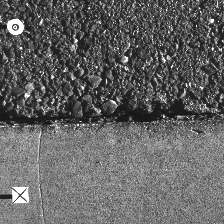circle: (7, 18, 24, 35)
crack: (1, 109, 223, 128)
square: (12, 187, 28, 203)
